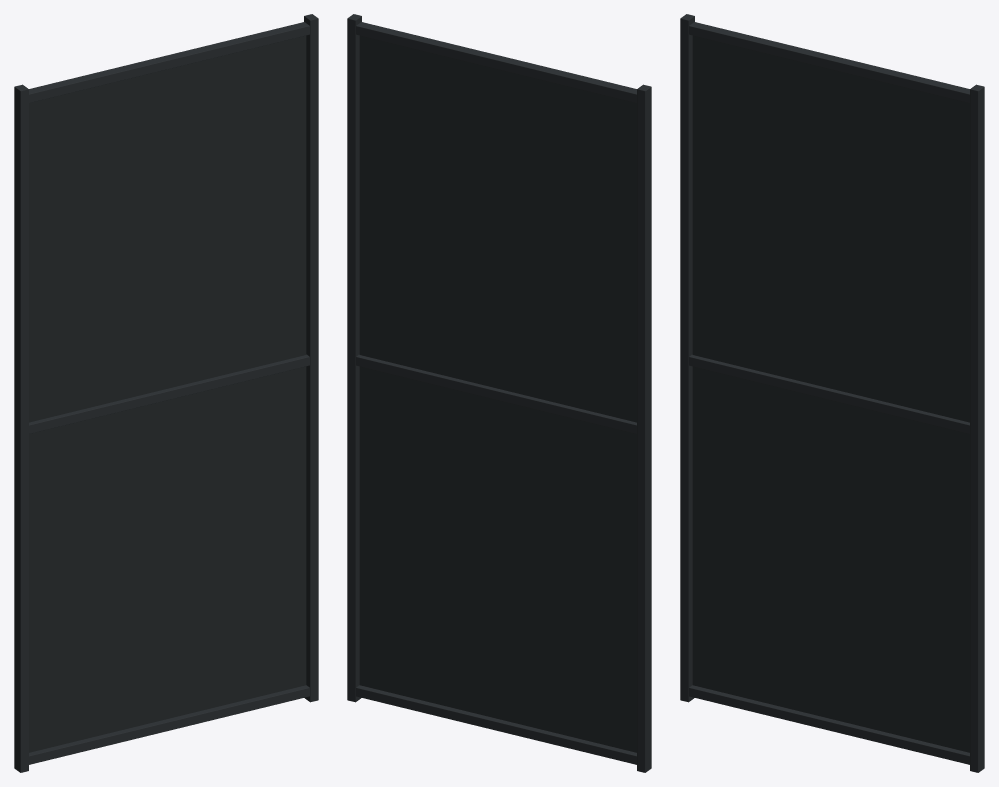
Rendered from cage-panel.glb.
3 views of the same model, side by side, from view 1: azimuth 30°, elevation 25°; view 2: azimuth 150°, elevation 25°; view 3: azimuth 330°, elevation 25° (orthographic).
Visible parts, largest first — view 1: SquareGridScreen, CageSteelFrame; view 2: SquareGridScreen, CageSteelFrame; view 3: SquareGridScreen, CageSteelFrame.
Boxes of the visible parts, bbox=[...] form: SquareGridScreen: bbox=[29, 35, 306, 752]; CageSteelFrame: bbox=[14, 14, 318, 772]; SquareGridScreen: bbox=[359, 35, 636, 752]; CageSteelFrame: bbox=[347, 14, 651, 772]; SquareGridScreen: bbox=[692, 35, 969, 752]; CageSteelFrame: bbox=[680, 14, 984, 772].
Bounding box in the file's own units: 1.24 × 2.7 × 0.045.
Materials: 2 (1 with a texture image).
